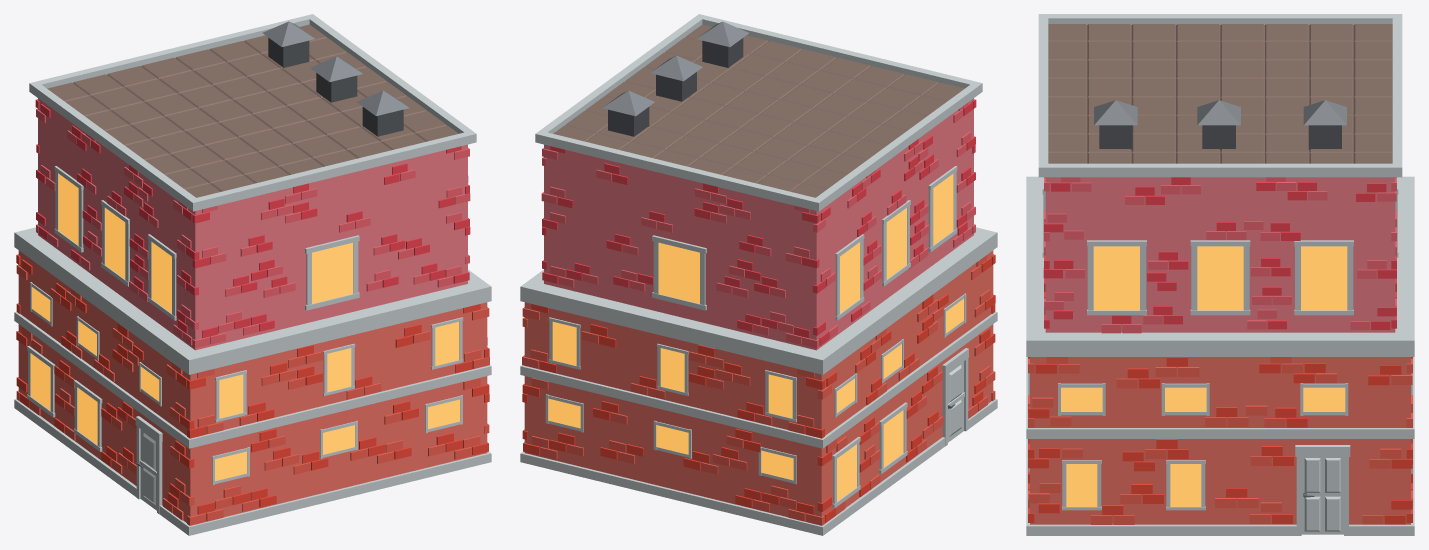
The model's file is SM_House_16_A.fbx.
3 renders of one model, left to right at view 1: azimuth 30°, elevation 25°; view 2: azimuth 150°, elevation 25°; view 3: azimuth 270°, elevation 25°, orthographic. The views are drawn at different scales.
Parts seen in each view (by area): view 1: SM_House_16_A_LOD0; view 2: SM_House_16_A_LOD0; view 3: SM_House_16_A_LOD0.
Boxes of the visible parts, x1,y1,x2,y2 form: SM_House_16_A_LOD0: [14, 14, 491, 535]; SM_House_16_A_LOD0: [520, 14, 997, 535]; SM_House_16_A_LOD0: [1026, 14, 1414, 535].
Size of the model in its own units: 820 by 809 by 917.
1 material, 1 textured.
